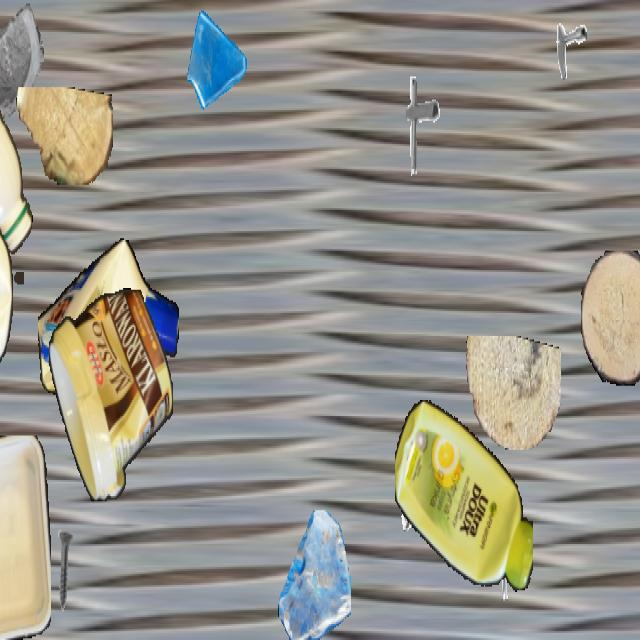glass: (278, 510, 350, 638), (185, 1, 249, 116), (0, 2, 44, 130)
metal: (388, 71, 448, 178), (0, 439, 42, 546), (40, 528, 88, 613), (395, 453, 441, 535), (487, 535, 531, 613), (545, 4, 587, 78)
plastic: (395, 393, 533, 599), (48, 288, 172, 501), (38, 237, 178, 407), (0, 436, 51, 638), (0, 1, 34, 282), (0, 210, 12, 394)
wood: (463, 336, 561, 450), (15, 87, 113, 183), (581, 250, 640, 386), (0, 439, 5, 638), (0, 409, 3, 558)
